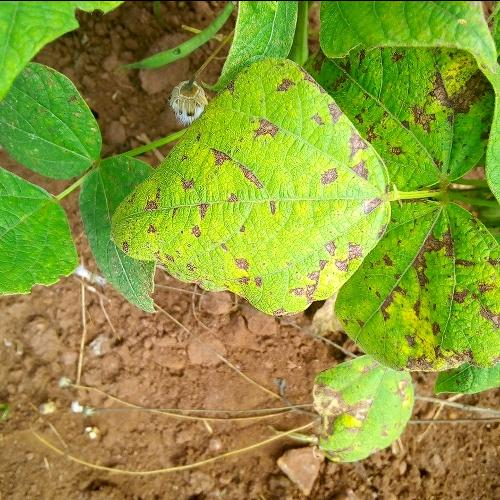hawar: (123, 78, 348, 318)
